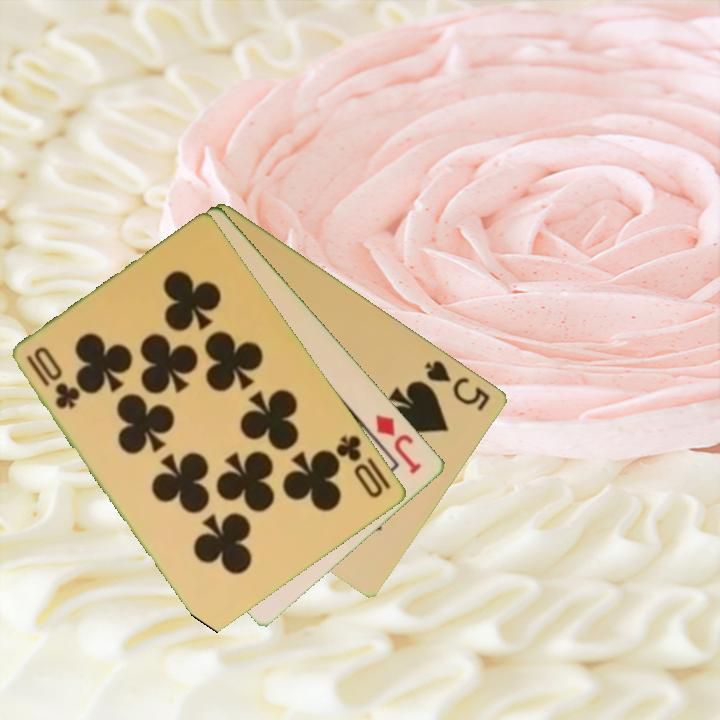10c: (23, 343, 83, 412), (333, 431, 387, 501)
5s: (421, 356, 494, 414)
Jd: (372, 411, 426, 477)
